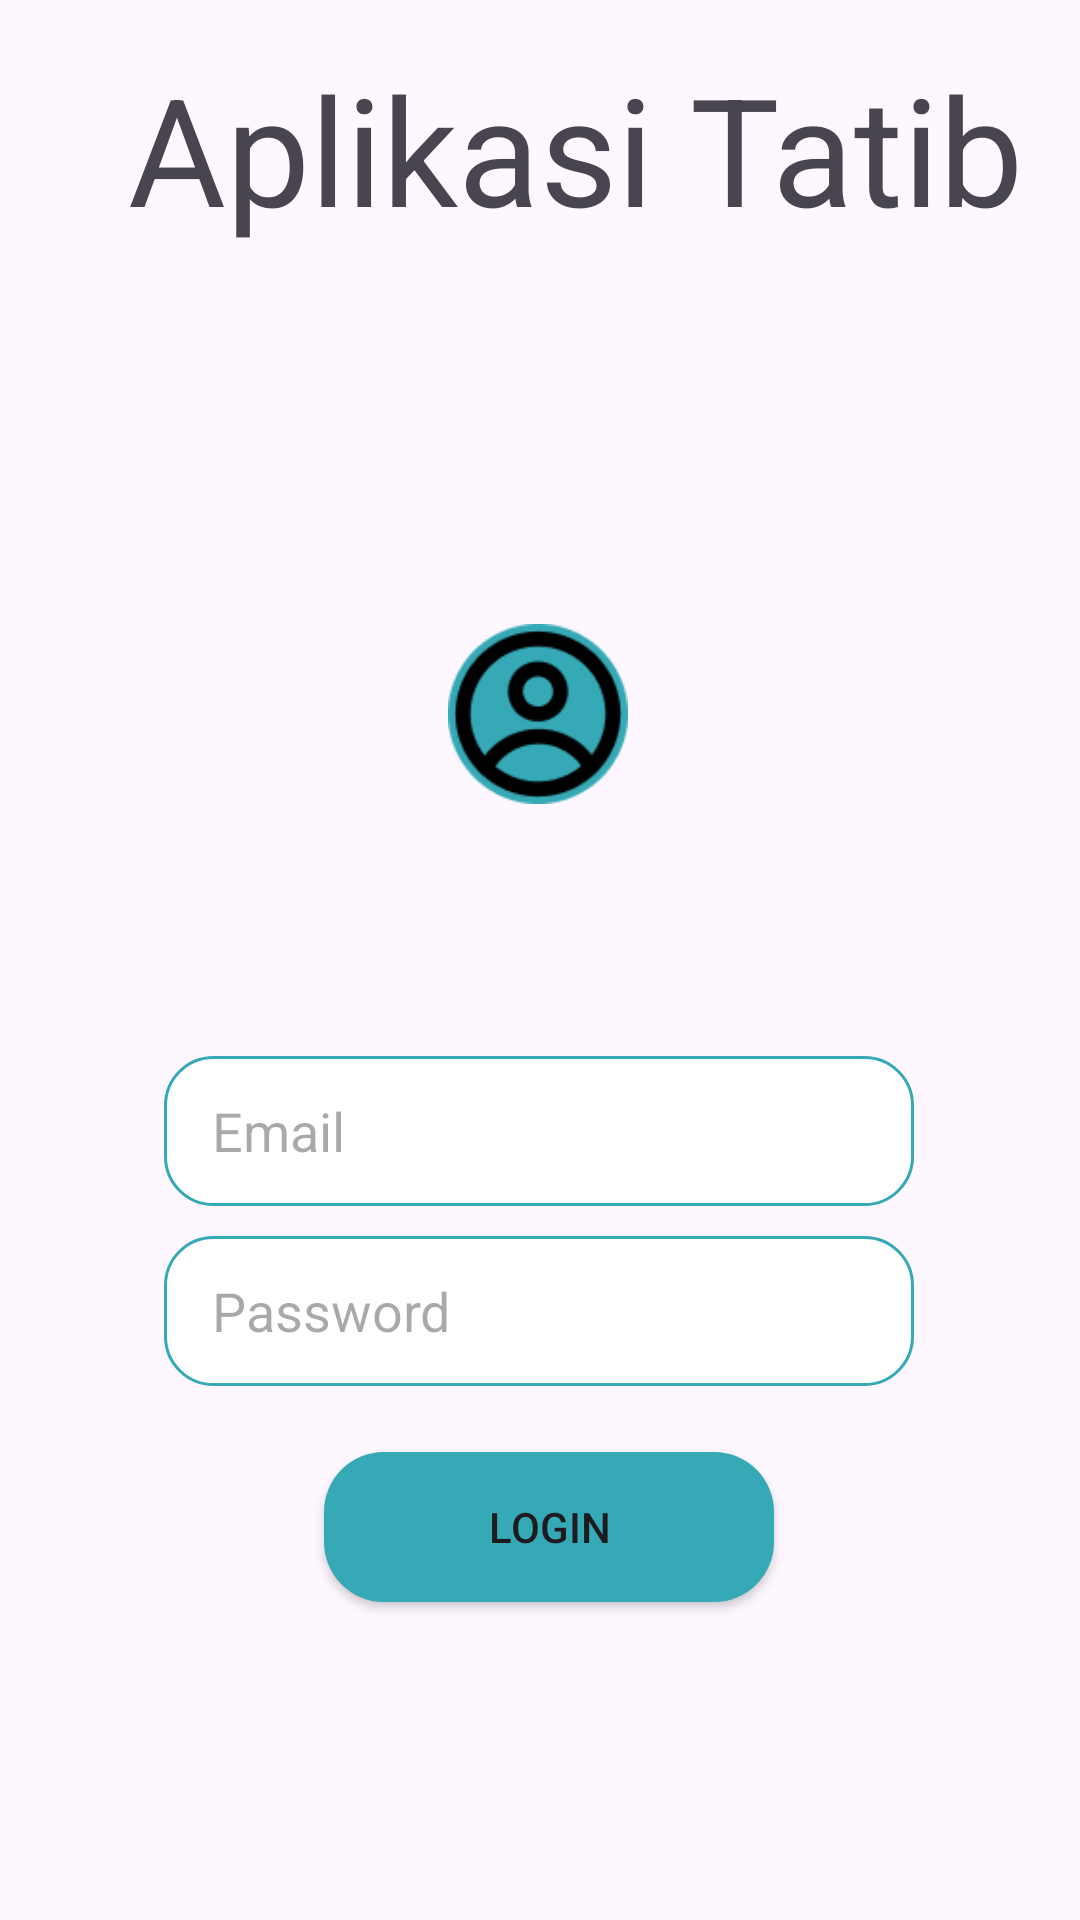

Named icons in this screenshot (1080x1920) and their bounding boxes, (x1, y1, x2, y2):
profile: (448, 624, 628, 804)
